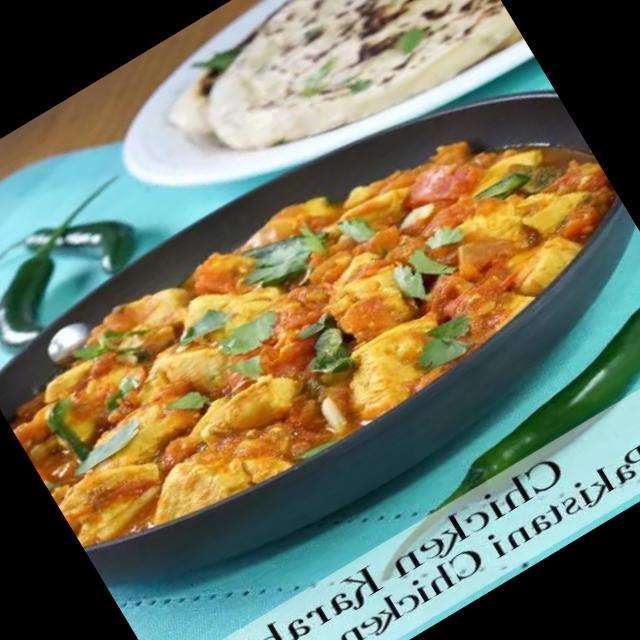chicken: (9, 122, 586, 577)
